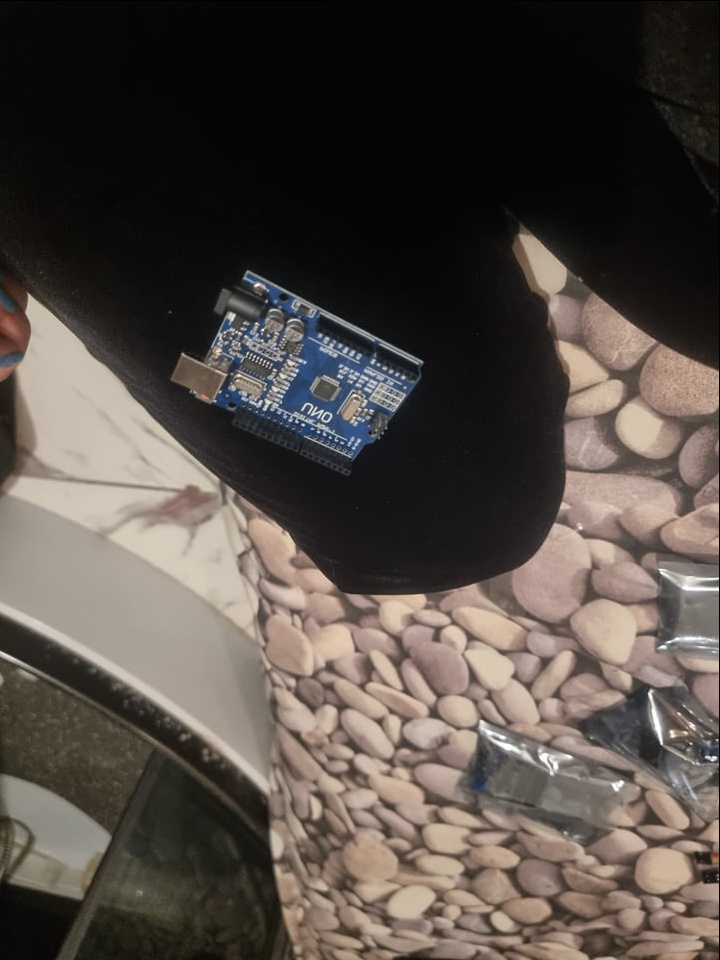UNO R3: (170, 265, 425, 475)
